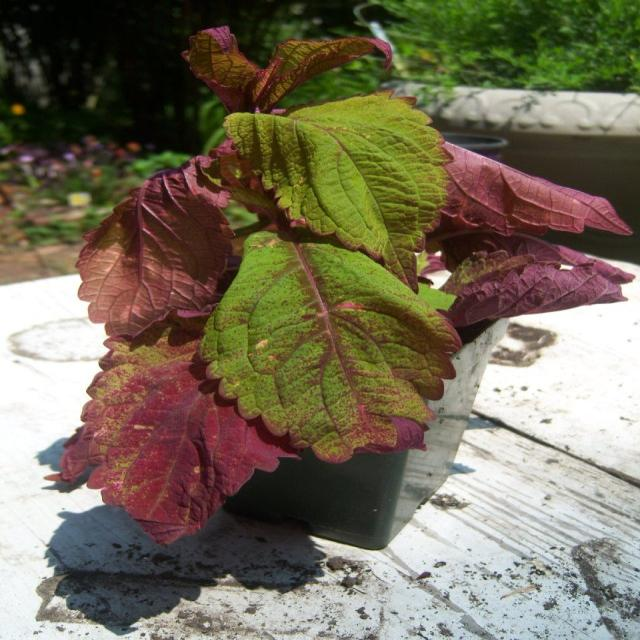Coleus: (54, 15, 639, 521)
